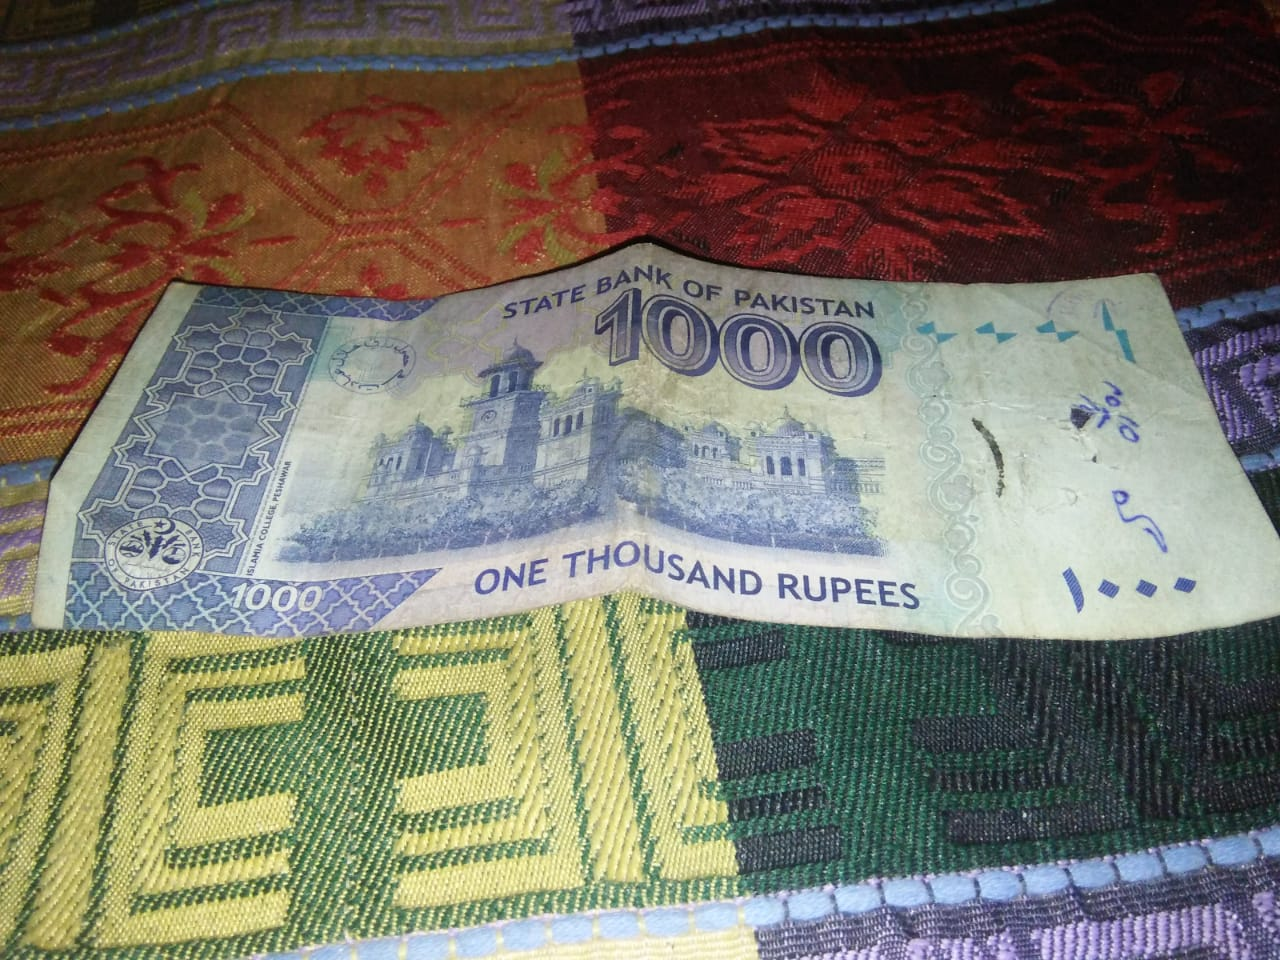1000 rupee: (21, 249, 1271, 647)
